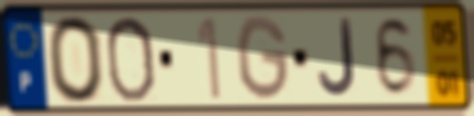1: (195, 14, 223, 104)
6: (372, 16, 420, 100)
G: (233, 12, 292, 104)
J: (316, 16, 360, 100)
O: (44, 12, 108, 107), (103, 13, 158, 105)
